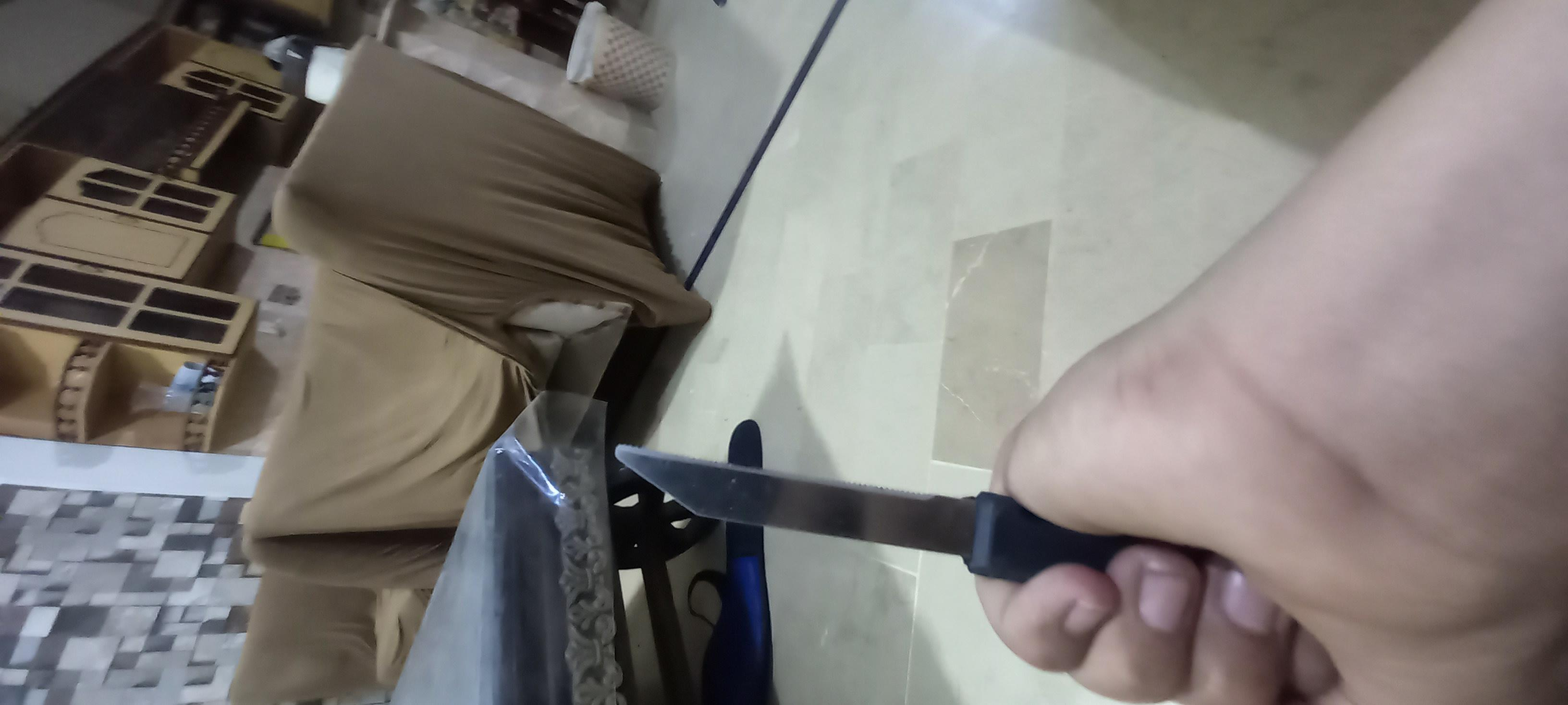knives: (105, 270, 590, 580)
